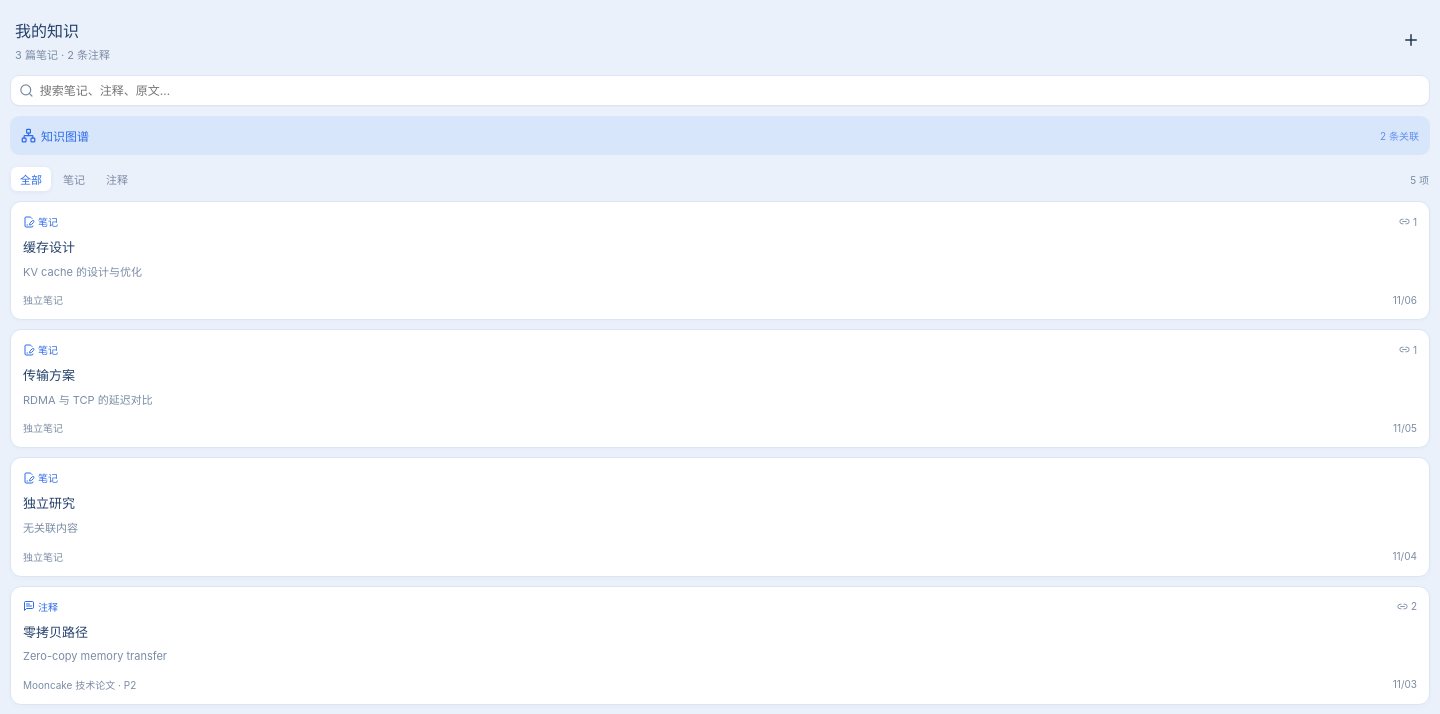
Test: searches notes and annotation excerpts without opening the original document
Type "Zero-copy" into the field named "搜索笔记和注释" at [730, 90], box [40,76,1421,105]
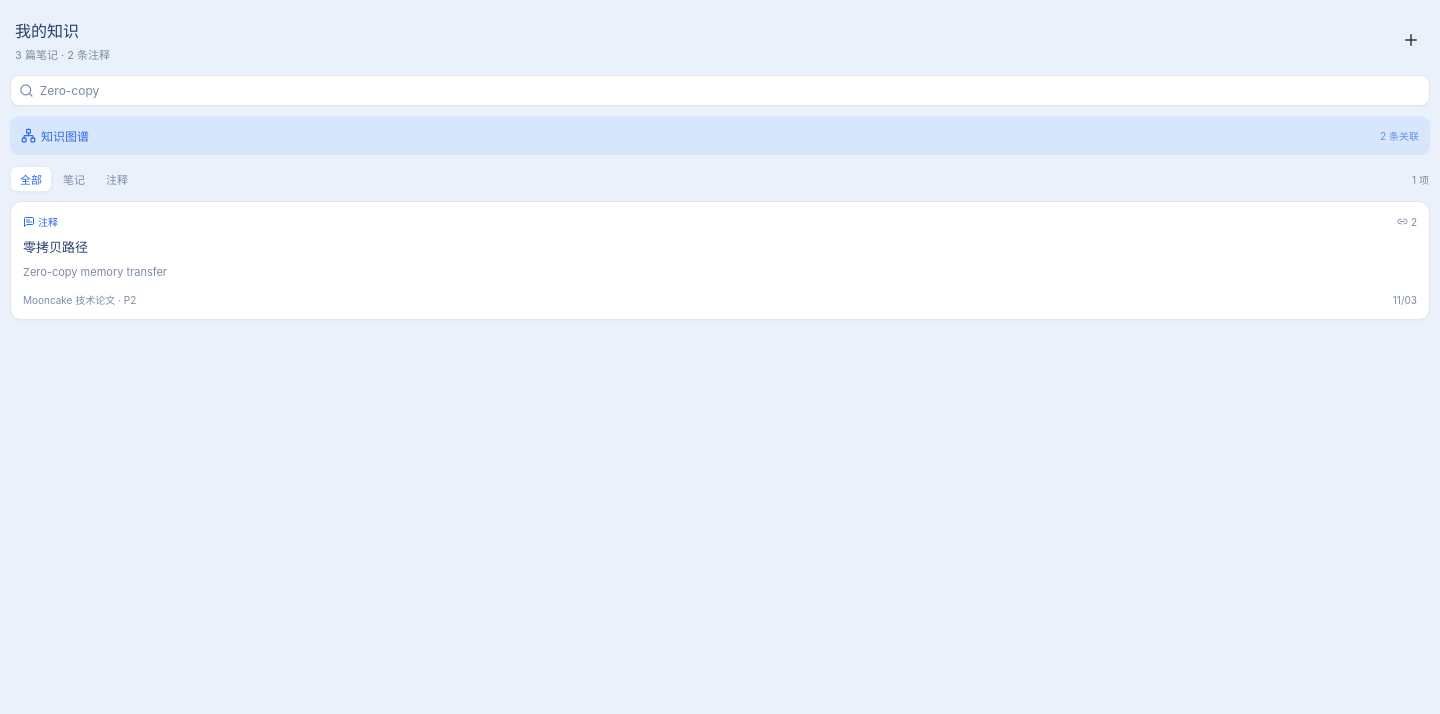
Result: the button "缓存设计" is gone
Replace the text in the field named "搜索笔记和注释" with "not-present" at [730, 90], box [40,76,1421,105]
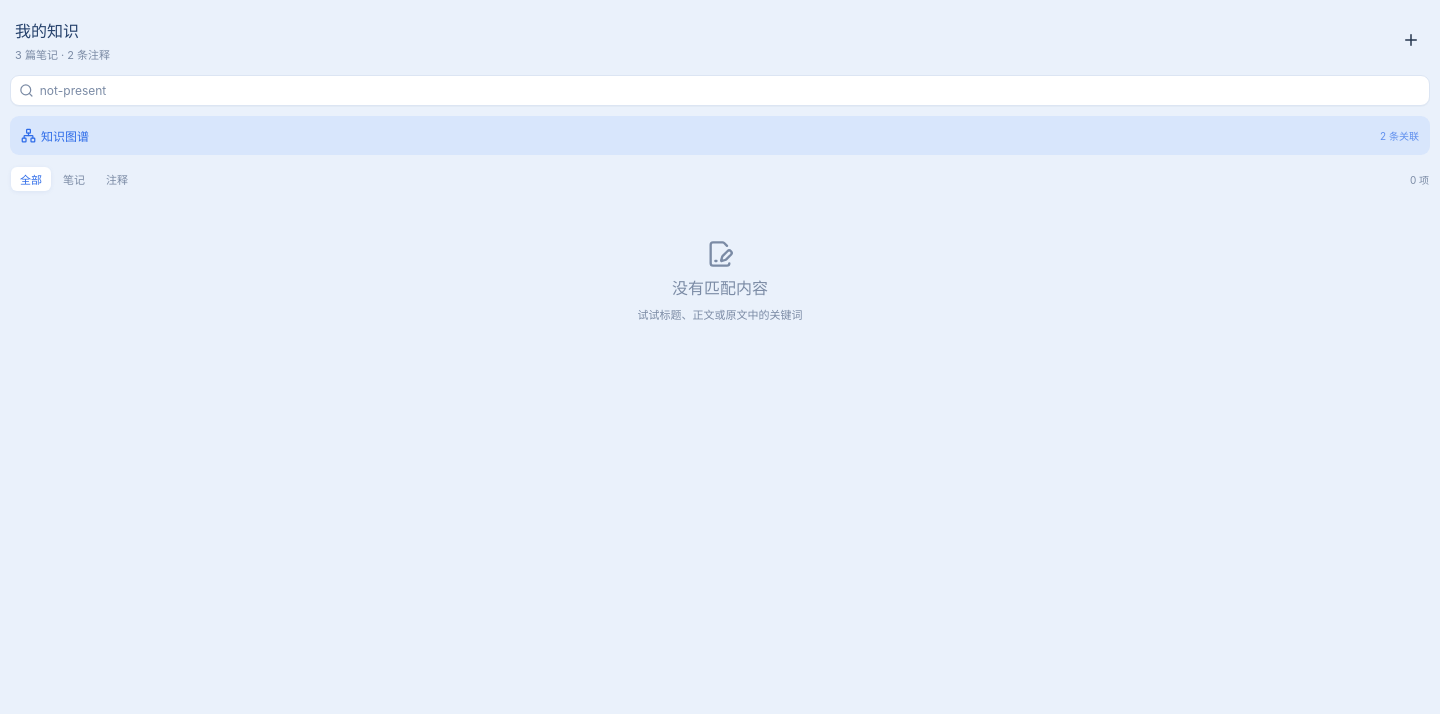
Result: the text "没有匹配内容" is shown at [672,275,768,299]
